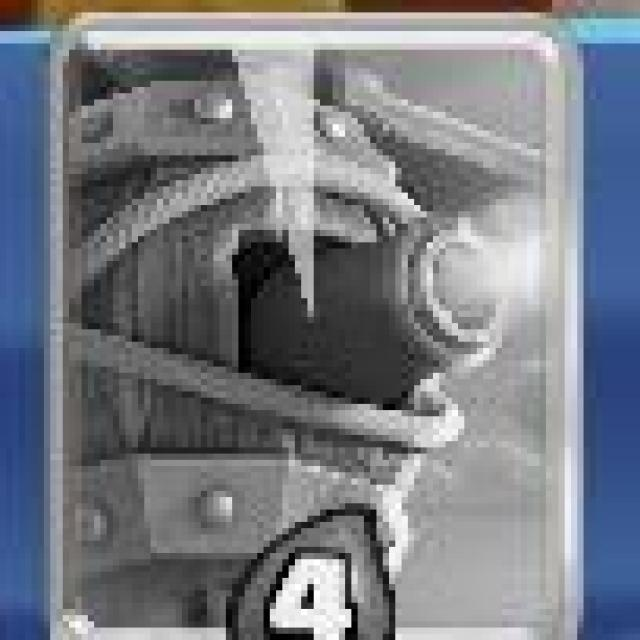Flying_Machine: (48, 16, 583, 640)
